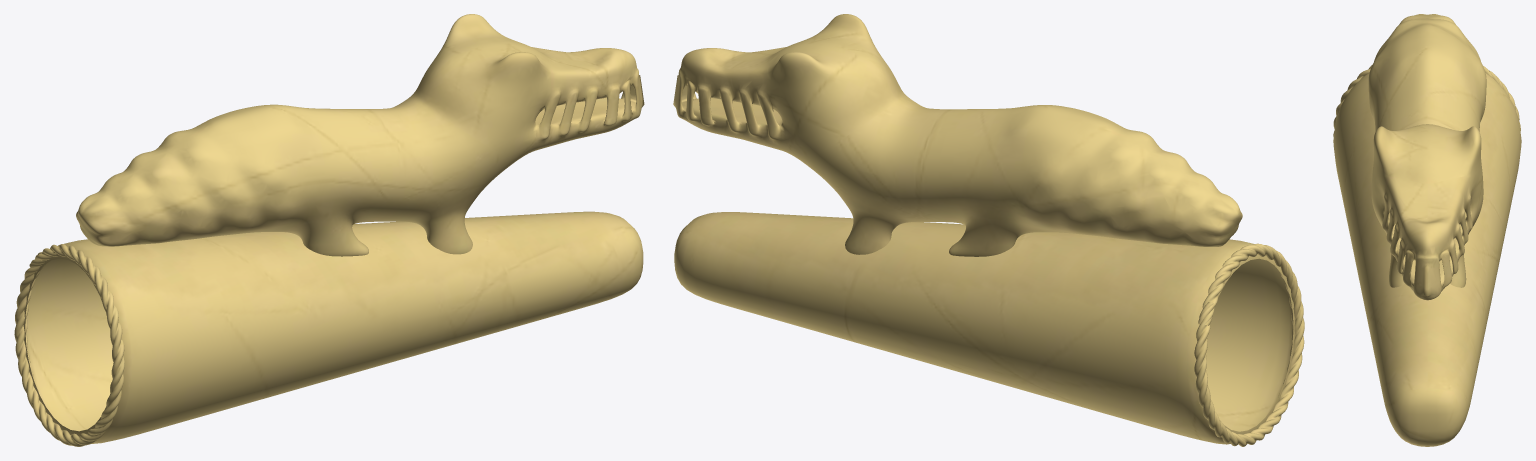
The model's file is zenu_-_remate_de_baston_horizontal_zoomorfo.lod1.glb.
3 renders of one model, left to right at view 1: azimuth 30°, elevation 25°; view 2: azimuth 150°, elevation 25°; view 3: azimuth 270°, elevation 25°, orthographic. The views are drawn at different scales.
Visible parts, largest first — view 1: Cylinder, Cylinder.001, Circle.009; view 2: Cylinder, Cylinder.001, Circle.009; view 3: Cylinder, Cylinder.001, Circle.009.
Boxes of the visible parts, left/top/right/bottom form: Cylinder: left=23, top=211, right=643, bottom=443; Cylinder.001: left=76, top=14, right=644, bottom=256; Circle.009: left=14, top=244, right=124, bottom=446; Cylinder: left=674, top=212, right=1295, bottom=444; Cylinder.001: left=673, top=14, right=1242, bottom=256; Circle.009: left=1194, top=243, right=1304, bottom=446; Cylinder: left=1333, top=72, right=1521, bottom=446; Cylinder.001: left=1368, top=14, right=1486, bottom=300; Circle.009: left=1333, top=65, right=1520, bottom=136.
Size of the model in its own units: 6.17 by 3.02 by 1.85.
1 material, 1 textured.
